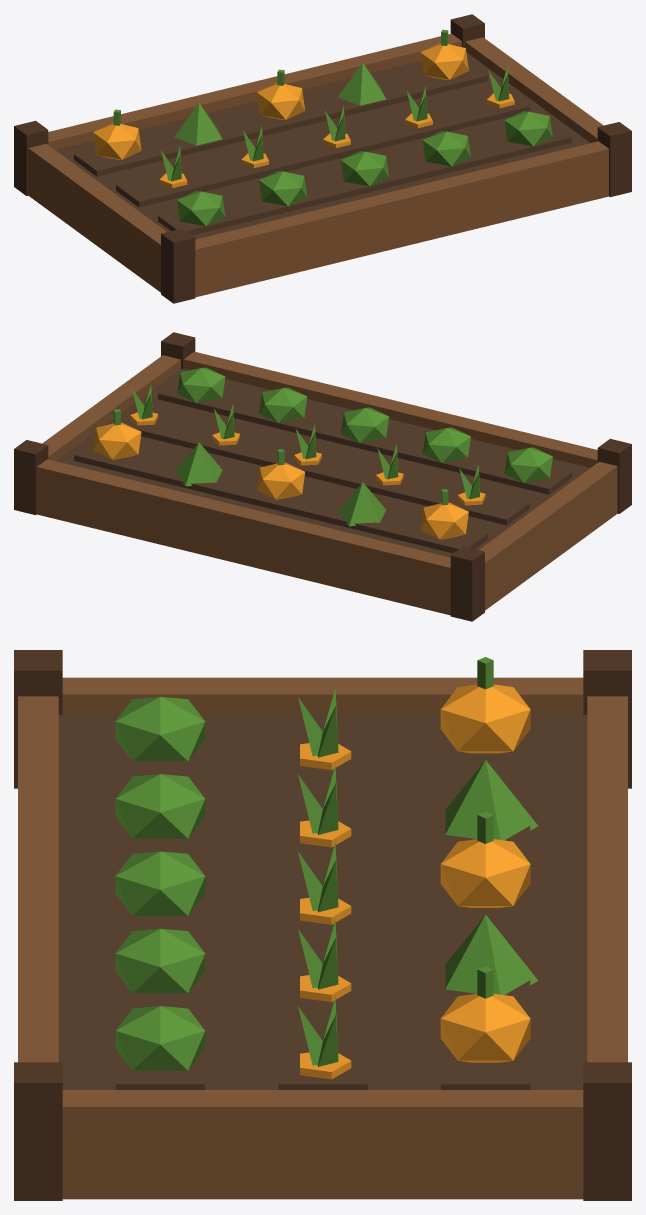
Rendered from Beet.fbx.
3 renders of one model, top to bottom at view 1: azimuth 30°, elevation 25°; view 2: azimuth 150°, elevation 25°; view 3: azimuth 270°, elevation 25°, orthographic. The views are drawn at different scales.
Visible parts, largest first — view 1: Beet; view 2: Beet; view 3: Beet.
Boxes of the visible parts, x1,y1,x2,y2 form: Beet: [14, 14, 631, 303]; Beet: [14, 332, 631, 621]; Beet: [14, 650, 631, 1200].
Bounding box in the file's own units: 2.52 × 0.46 × 1.52.
